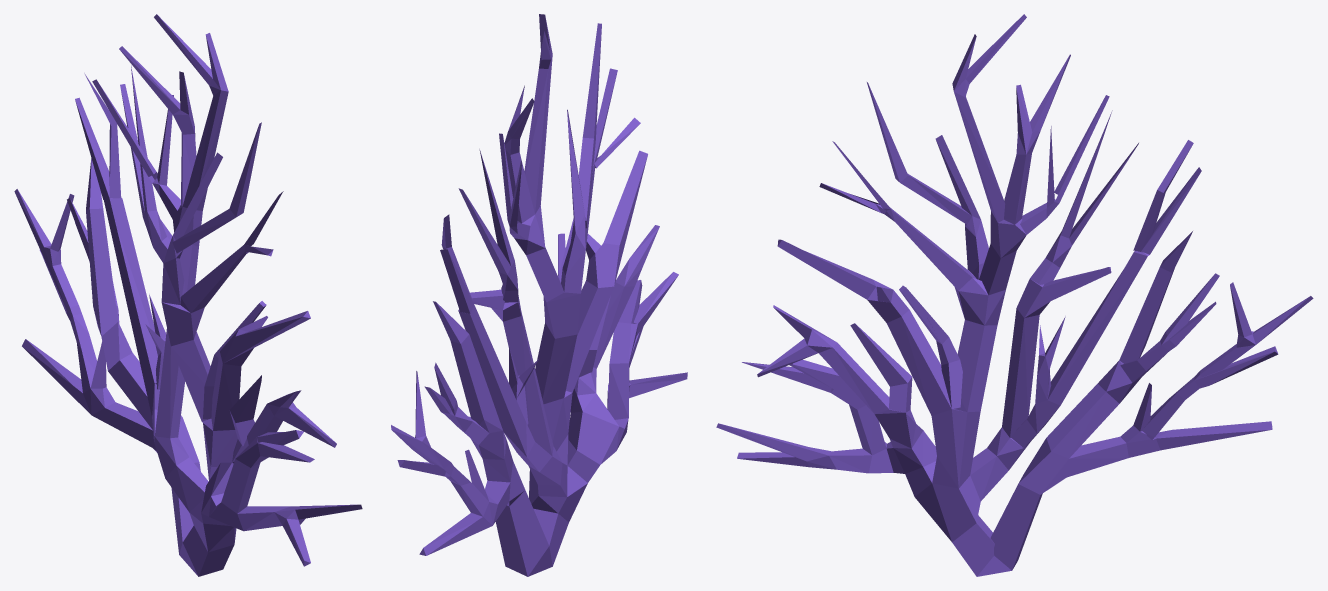
Rendered from coral-5.gltf.
3 renders of one model, left to right at view 1: azimuth 30°, elevation 25°; view 2: azimuth 150°, elevation 25°; view 3: azimuth 270°, elevation 25°, orthographic. The views are drawn at different scales.
Parts seen in each view (by area): view 1: Coral.004; view 2: Coral.004; view 3: Coral.004.
Part boxes in pixels (x1,y1,x2,y2): Coral.004: [14, 14, 362, 576]; Coral.004: [391, 14, 687, 576]; Coral.004: [716, 14, 1313, 576].
Bounding box in the file's own units: 0.0652 × 0.4776 × 0.4763.
